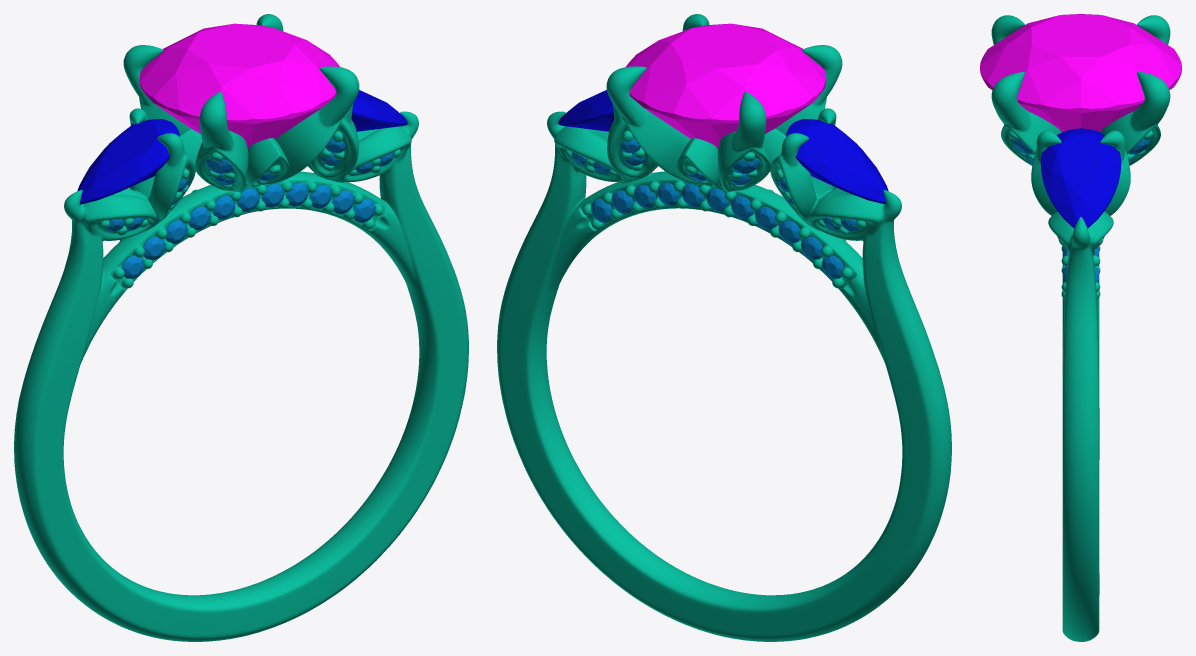
File: BE1D375_RD_200ct_RENDER.glb
The picture shows the model from 3 angles, left to right: view 1: azimuth 30°, elevation 25°; view 2: azimuth 150°, elevation 25°; view 3: azimuth 270°, elevation 25°; orthographic projection.
Visible parts, largest first — view 1: Metal 01, CS_Diamond_Round, Diamond_Pear_side, Diamond_Pear_side.001; view 2: Metal 01, CS_Diamond_Round, Diamond_Pear_side, Diamond_Pear_side.001; view 3: Metal 01, CS_Diamond_Round, Diamond_Pear_side.001.
Part boxes in pixels (left/top/right/bottom): Metal 01: left=14, top=14, right=468, bottom=641; CS_Diamond_Round: left=139, top=23, right=339, bottom=148; Diamond_Pear_side: left=77, top=119, right=179, bottom=204; Diamond_Pear_side.001: left=351, top=90, right=407, bottom=131; Metal 01: left=497, top=14, right=951, bottom=641; CS_Diamond_Round: left=626, top=23, right=826, bottom=148; Diamond_Pear_side: left=786, top=119, right=888, bottom=204; Diamond_Pear_side.001: left=558, top=90, right=614, bottom=131; Metal 01: left=991, top=15, right=1170, bottom=641; CS_Diamond_Round: left=980, top=14, right=1181, bottom=132; Diamond_Pear_side.001: left=1040, top=128, right=1121, bottom=228.
Bounding box in the file's own units: 20.34 × 25.48 × 8.
